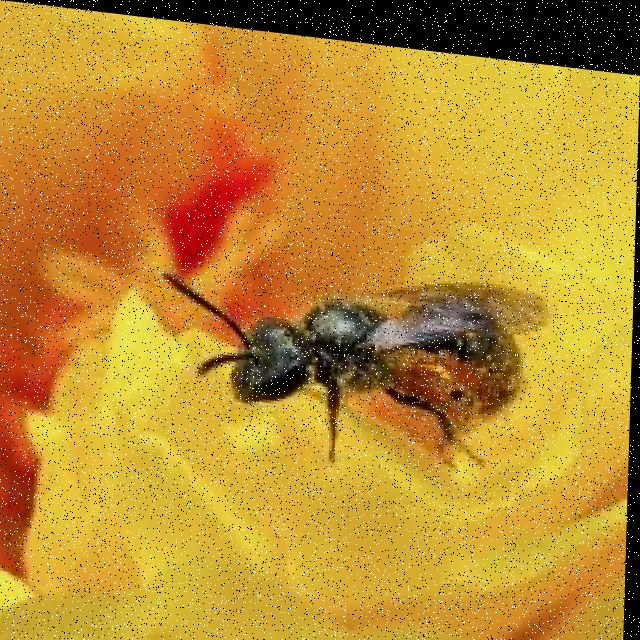Lasioglossum: (144, 205, 542, 473)
